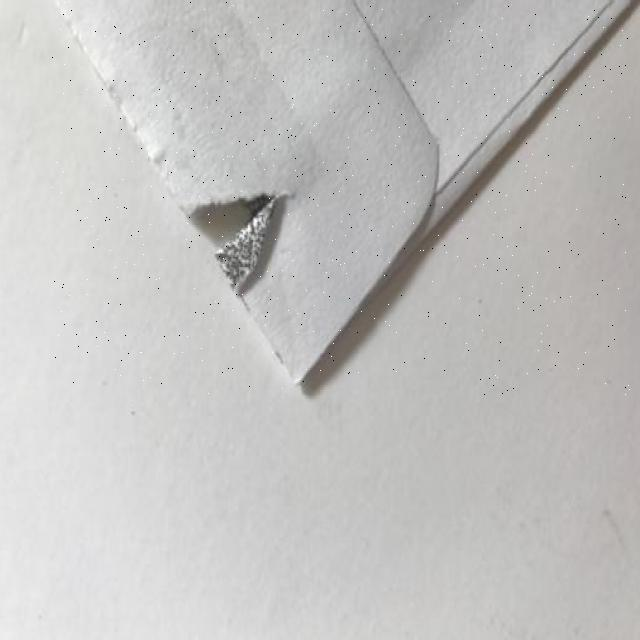paper: (51, 1, 631, 394)
